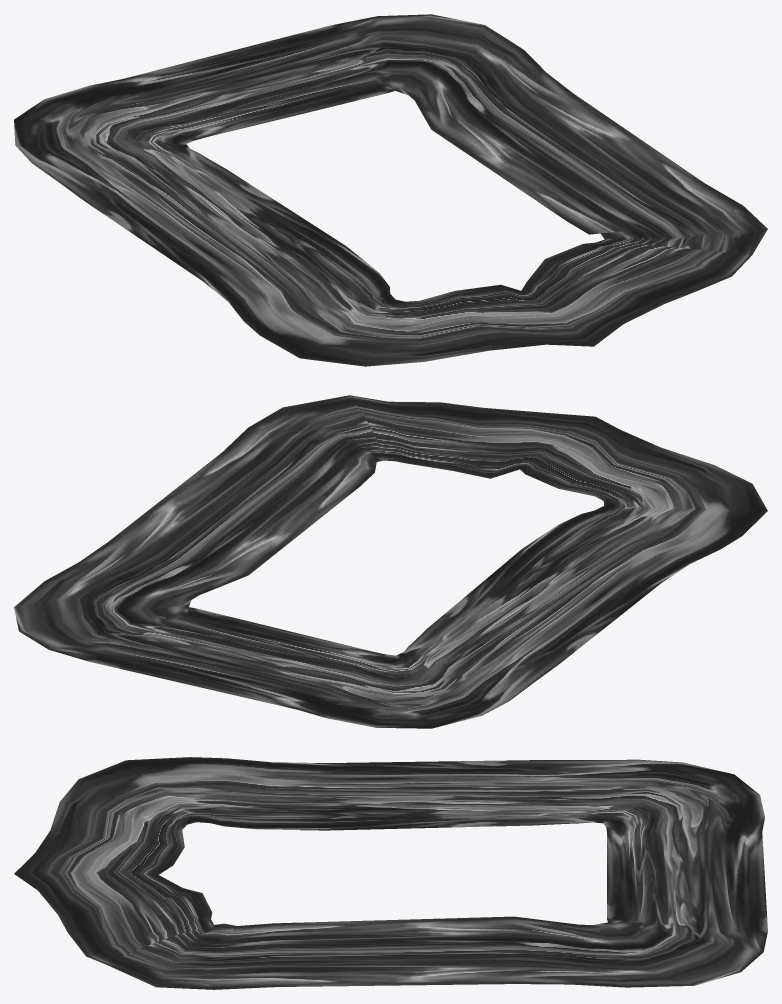
The model's file is Card_backplane.FBX.
3 renders of one model, top to bottom at view 1: azimuth 30°, elevation 25°; view 2: azimuth 150°, elevation 25°; view 3: azimuth 270°, elevation 25°, orthographic. The views are drawn at different scales.
Parts seen in each view (by area): view 1: Plane003; view 2: Plane003; view 3: Plane003.
Boxes of the visible parts, x1,y1,x2,y2 form: Plane003: (14,14,767,366); Plane003: (14,395,767,728); Plane003: (14,757,767,989).
Bounding box in the file's own units: 3.77 × 0.0832 × 5.16.
